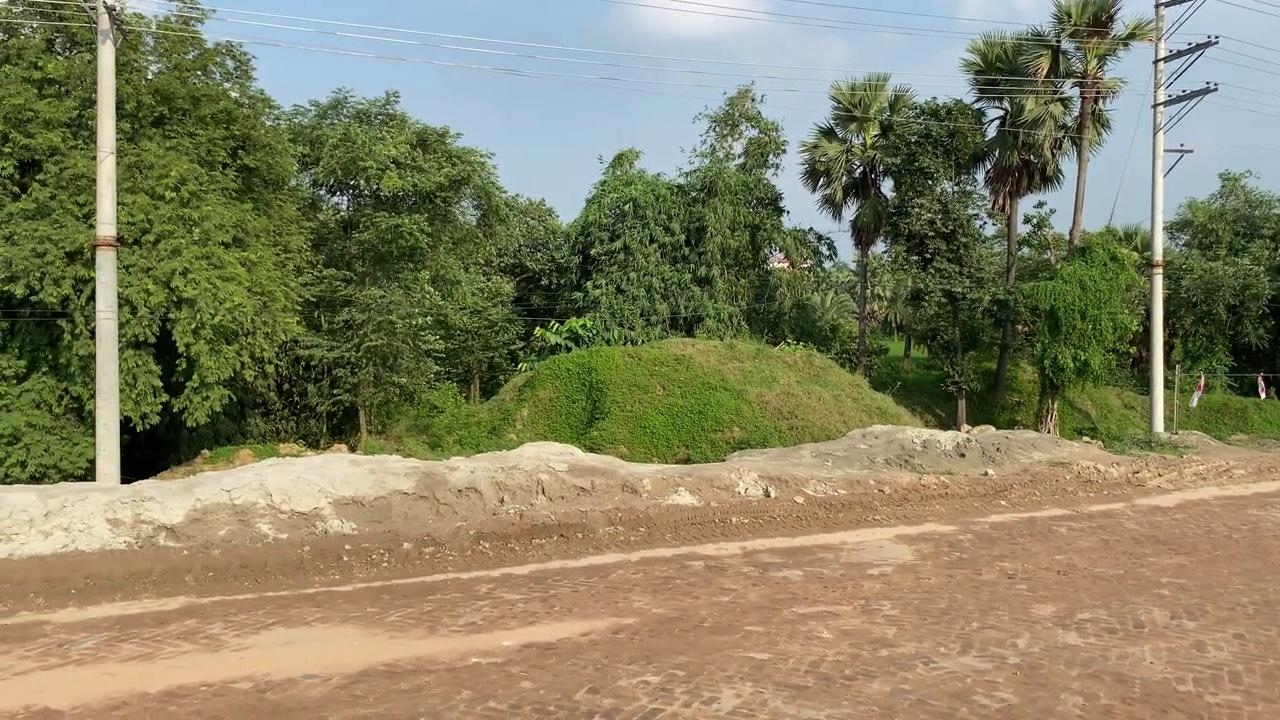Muddy road: (2, 452, 1277, 718)
Pole: (91, 1, 121, 484), (1147, 2, 1167, 434)
Traffic-sign: (958, 27, 1070, 403), (796, 70, 922, 379)
